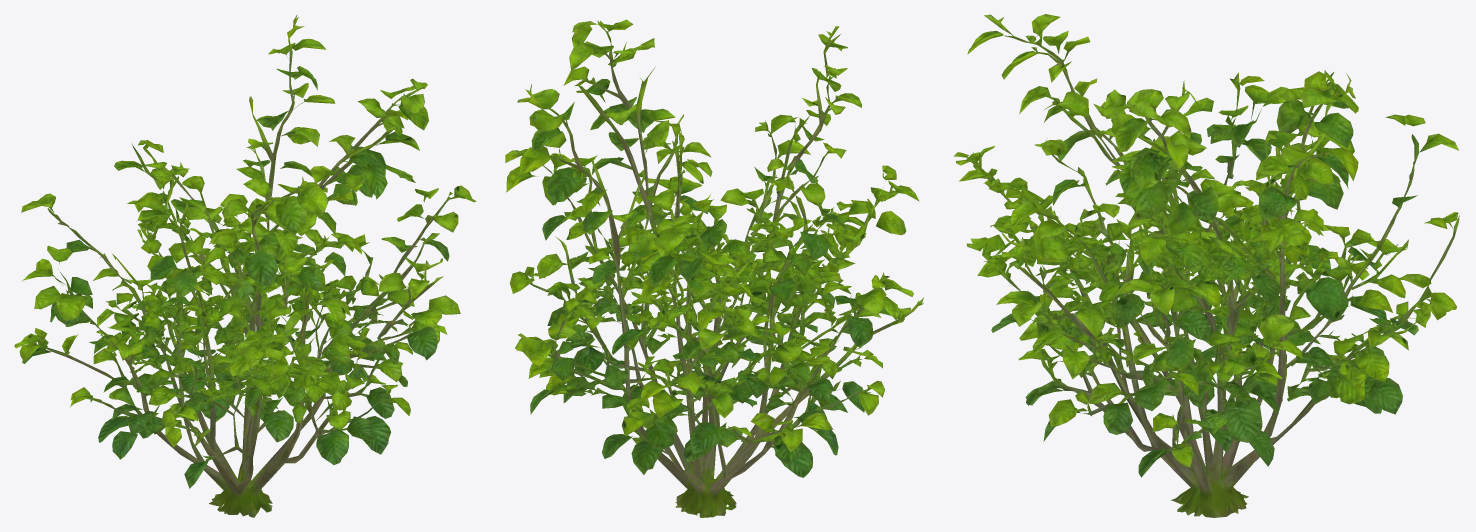
Rendered from woodland-hazel-shrub.glb.
3 renders of one model, left to right at view 1: azimuth 30°, elevation 25°; view 2: azimuth 150°, elevation 25°; view 3: azimuth 270°, elevation 25°, orthographic. The views are drawn at different scales.
Parts seen in each view (by area): view 1: Mesh_0; view 2: Mesh_0; view 3: Mesh_0.
Part boxes in pixels (x1,y1,x2,y2): Mesh_0: (14,15,476,517); Mesh_0: (505,19,923,517); Mesh_0: (954,14,1459,517).
Bounding box in the file's own units: 0.6088 × 0.6 × 0.5559.
Materials: 1 (1 with a texture image).
